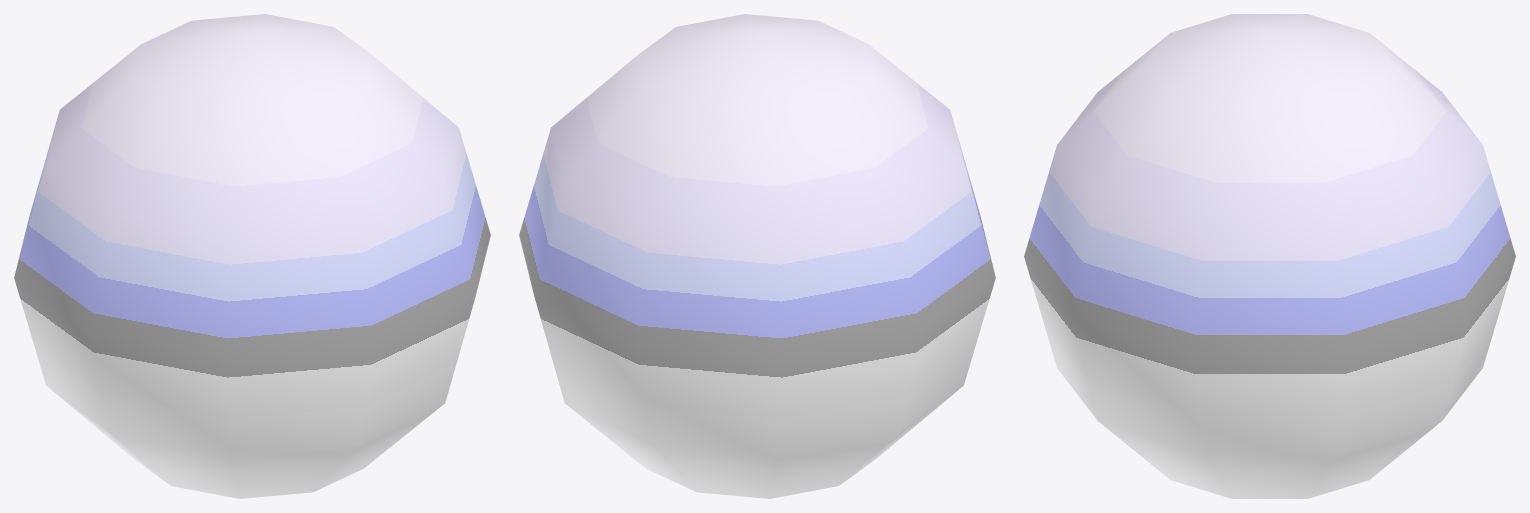
The model's file is unlit.glb.
The picture shows the model from 3 angles, left to right: view 1: azimuth 30°, elevation 25°; view 2: azimuth 150°, elevation 25°; view 3: azimuth 270°, elevation 25°; orthographic projection.
Visible parts, largest first — view 1: Sphere_unlit; view 2: Sphere_unlit; view 3: Sphere_unlit.
Part boxes in pixels (x1,y1,x2,y2): Sphere_unlit: [14, 14, 490, 498]; Sphere_unlit: [519, 14, 995, 498]; Sphere_unlit: [1024, 14, 1515, 498].
Size of the model in its own units: 296 by 311 by 311.
2 materials, 2 textured.
